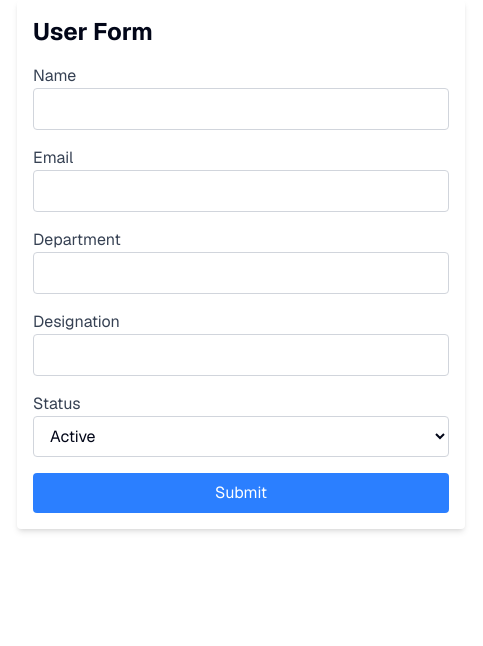
UserForm Component › shows validation when all the textboxes are empty and form is submitted
Click the button "Submit" at x=241, y=493, box [33,473,449,513]
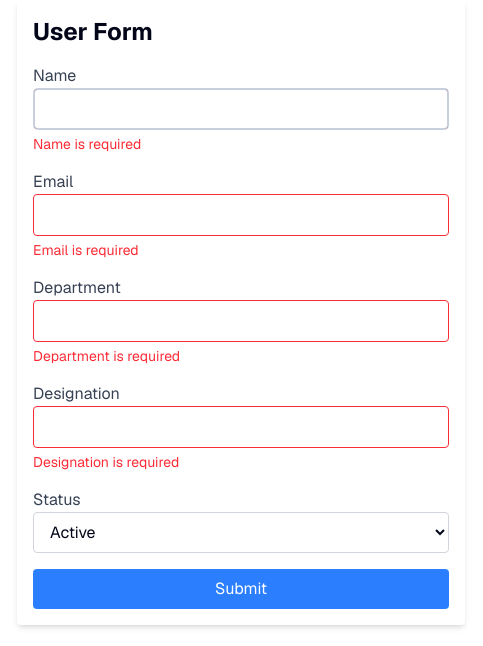
expect the text "Name is required" is shown: met, box [33,135,141,153]
expect the text "Email is required" is shown: met, box [33,241,139,259]
expect the text "Department is required" is shown: met, box [33,347,180,365]
